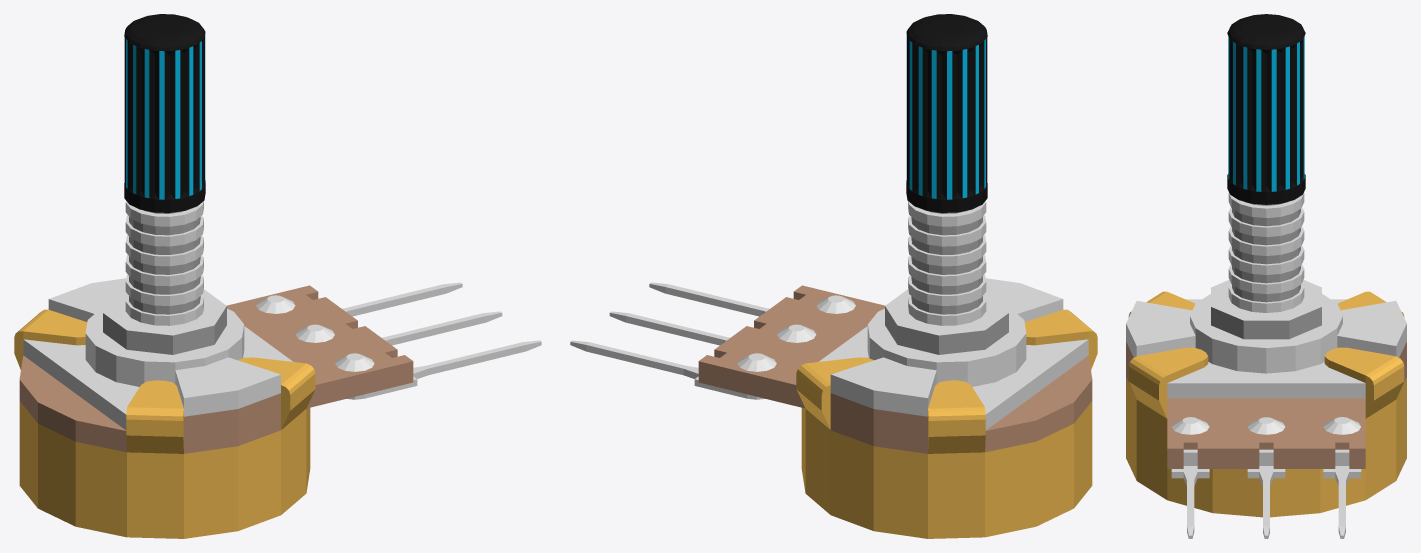
File: Potentiometer.glb
The picture shows the model from 3 angles, left to right: view 1: azimuth 30°, elevation 25°; view 2: azimuth 150°, elevation 25°; view 3: azimuth 270°, elevation 25°; orthographic projection. The views are drawn at different scales.
Parts seen in each view (by area): view 1: Cylinder, Cube.001, Cube.002, Cube; view 2: Cylinder, Cube, Cube.002, Cube.001; view 3: Cylinder, Cube, Cube.001, Cube.002.
Part boxes in pixels (x1,y1,x2,y2): Cylinder: (14,14,428,538); Cube.001: (425,340,541,375); Cube.002: (385,311,502,345); Cube: (346,282,462,316); Cylinder: (683,14,1097,538); Cube: (570,340,686,375); Cube.002: (609,311,726,345); Cube.001: (649,282,765,316); Cylinder: (1126,14,1406,517); Cube: (1338,480,1345,538); Cube.001: (1187,480,1194,538); Cube.002: (1263,480,1269,538).
Bounding box in the file's own units: 3.65 × 3.4 × 2.
